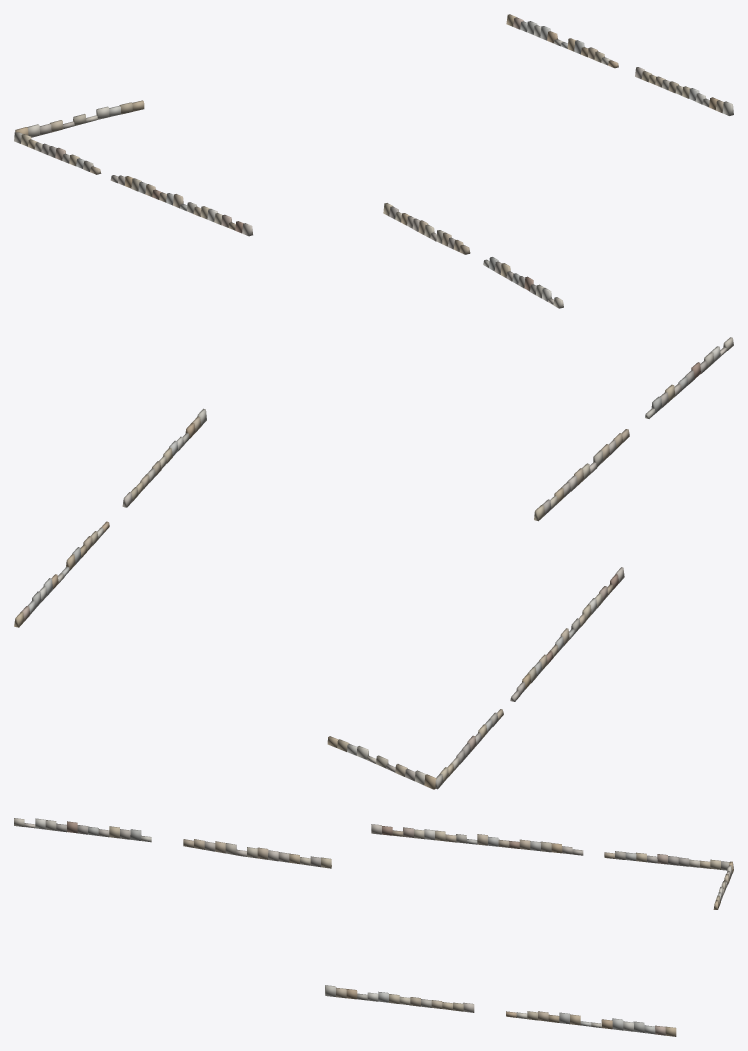
Rendered from farm_-5_-3_collision.glb.
3 views of the same model, one above another, from view 1: azimuth 30°, elevation 25°; view 2: azimuth 150°, elevation 25°; view 3: azimuth 270°, elevation 25° (orthographic). The views are drawn at different scales.
Visible parts, largest first — view 1: geometry_0; view 2: geometry_0; view 3: geometry_0.
Boxes of the visible parts, x1=… form: geometry_0: x1=14, y1=14, x2=733, y2=308; geometry_0: x1=14, y1=337, x2=733, y2=789; geometry_0: x1=14, y1=818, x2=733, y2=1036.
Size of the model in its own units: 69.59 by 16.68 by 107.
